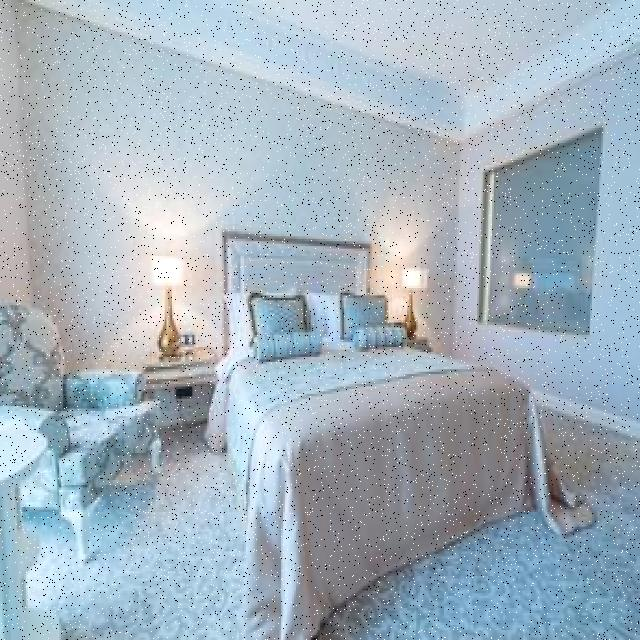bed: (213, 270, 547, 575)
